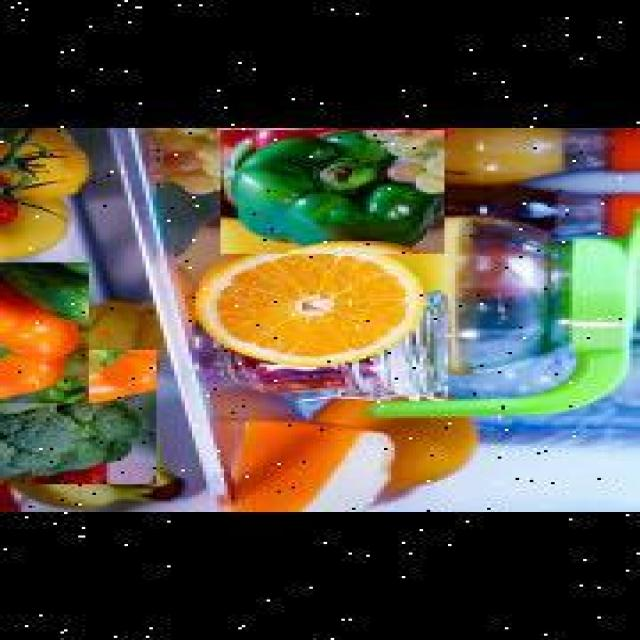bell_pepper: (217, 130, 441, 254), (0, 262, 124, 403)
broccoli: (0, 350, 153, 484)
tomato: (0, 128, 85, 209)
